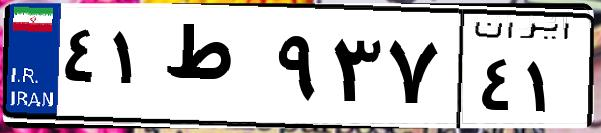1: (525, 38, 570, 115), (110, 28, 158, 98)
3: (330, 28, 385, 110)
4: (57, 26, 110, 100), (475, 38, 525, 113)
7: (385, 28, 445, 110)
9: (270, 28, 330, 110)
ط: (158, 20, 270, 120)
